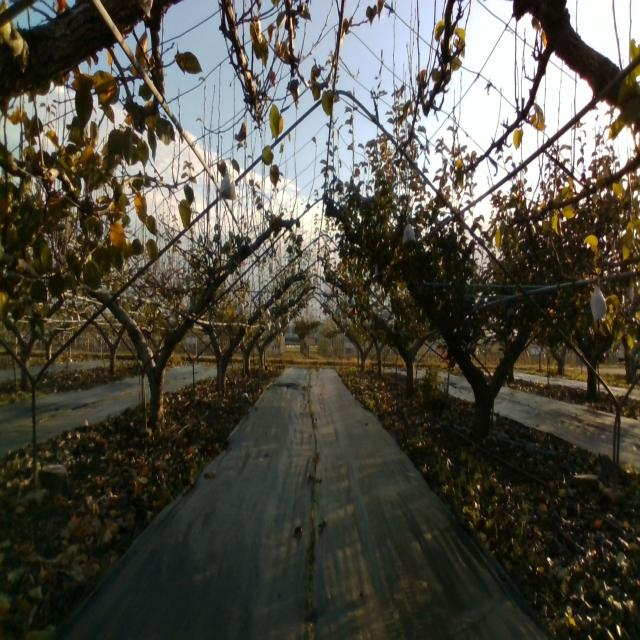pearbags: (590, 284, 608, 322), (218, 167, 238, 200), (402, 221, 417, 244)
